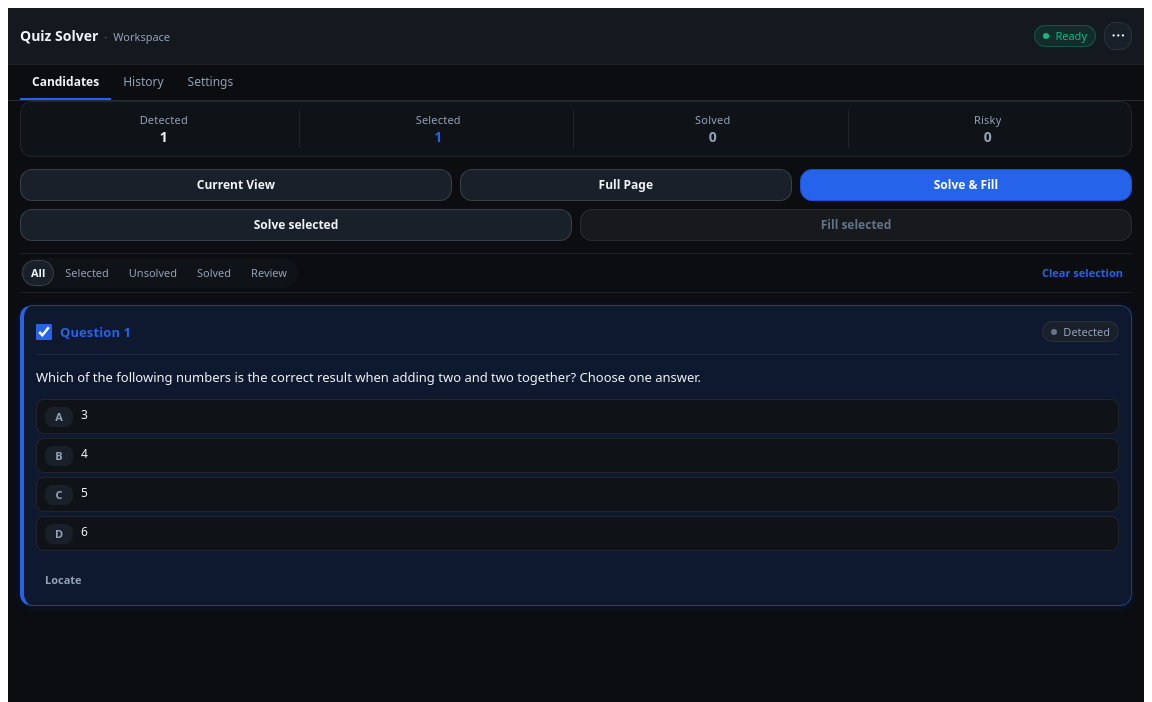
Test: UI-04 real App/actions/bridge/hydration feedback wiring › RF01-FB01 single Fill success
The image size is (1152, 702).
Click the button "Solve selected": {"x": 296, "y": 225} [20,209,572,241]
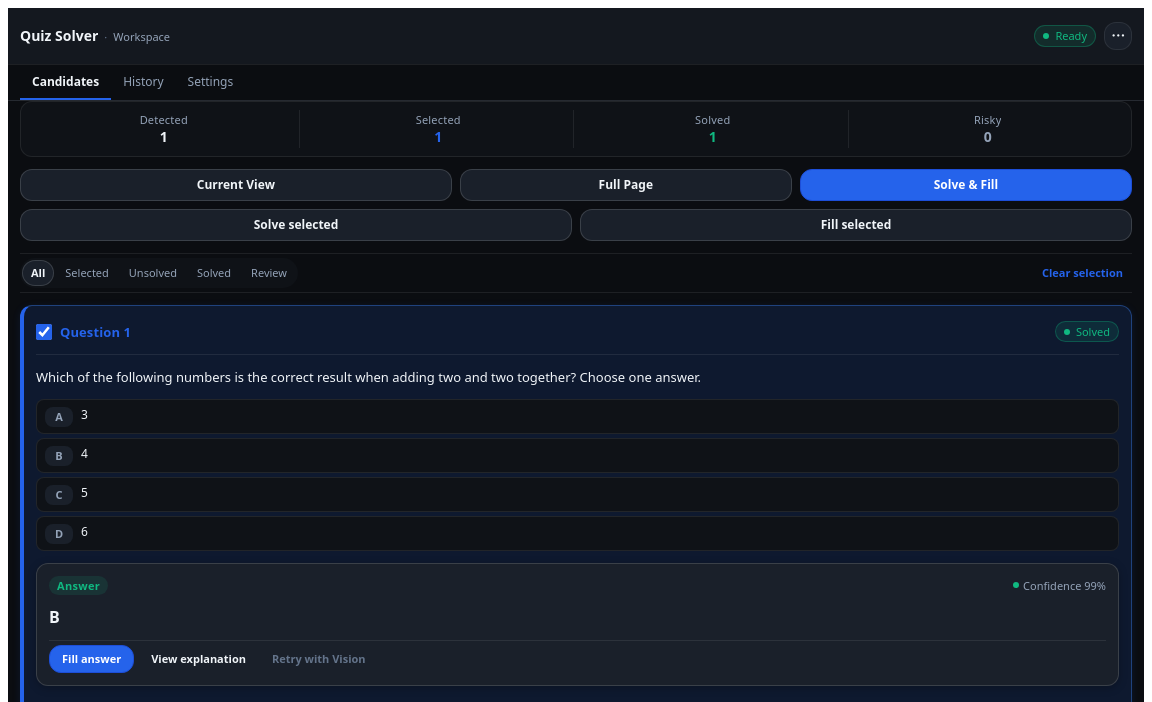
Check: the button "Fill answer" is enabled
Click the button "Fill answer": {"x": 92, "y": 659} [49,645,134,673]
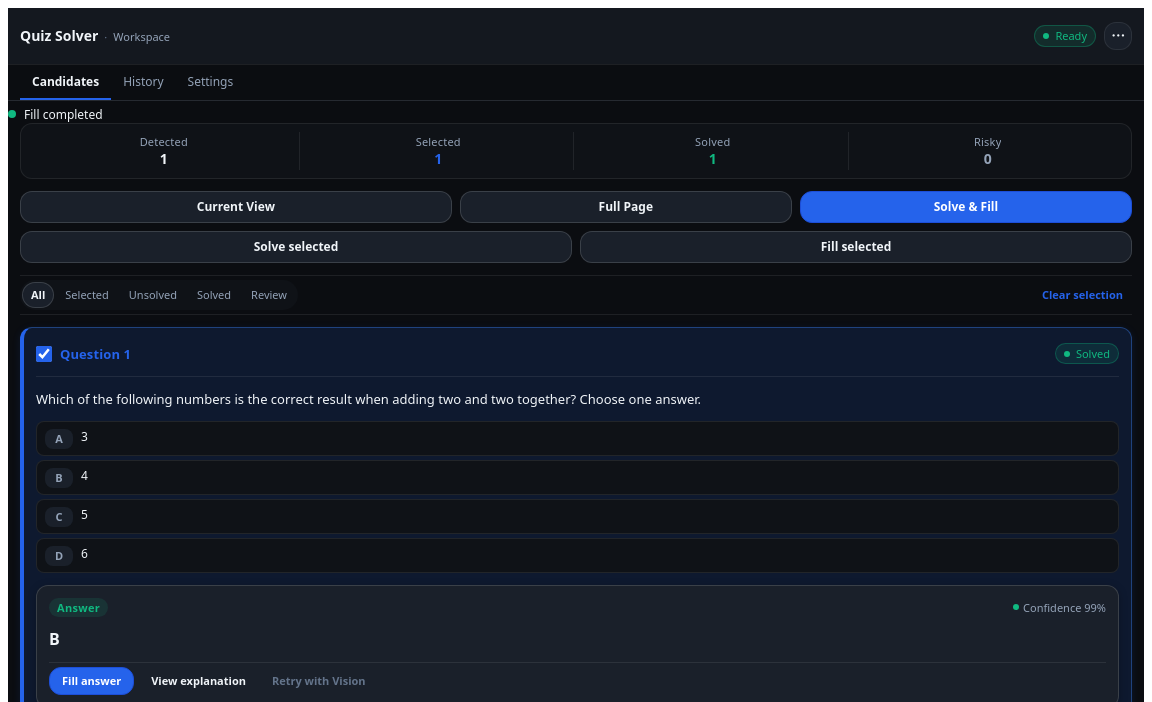
Check: the element with test id "workspace-user-feedback" reads "Fill completed", box [24,106,103,122]
